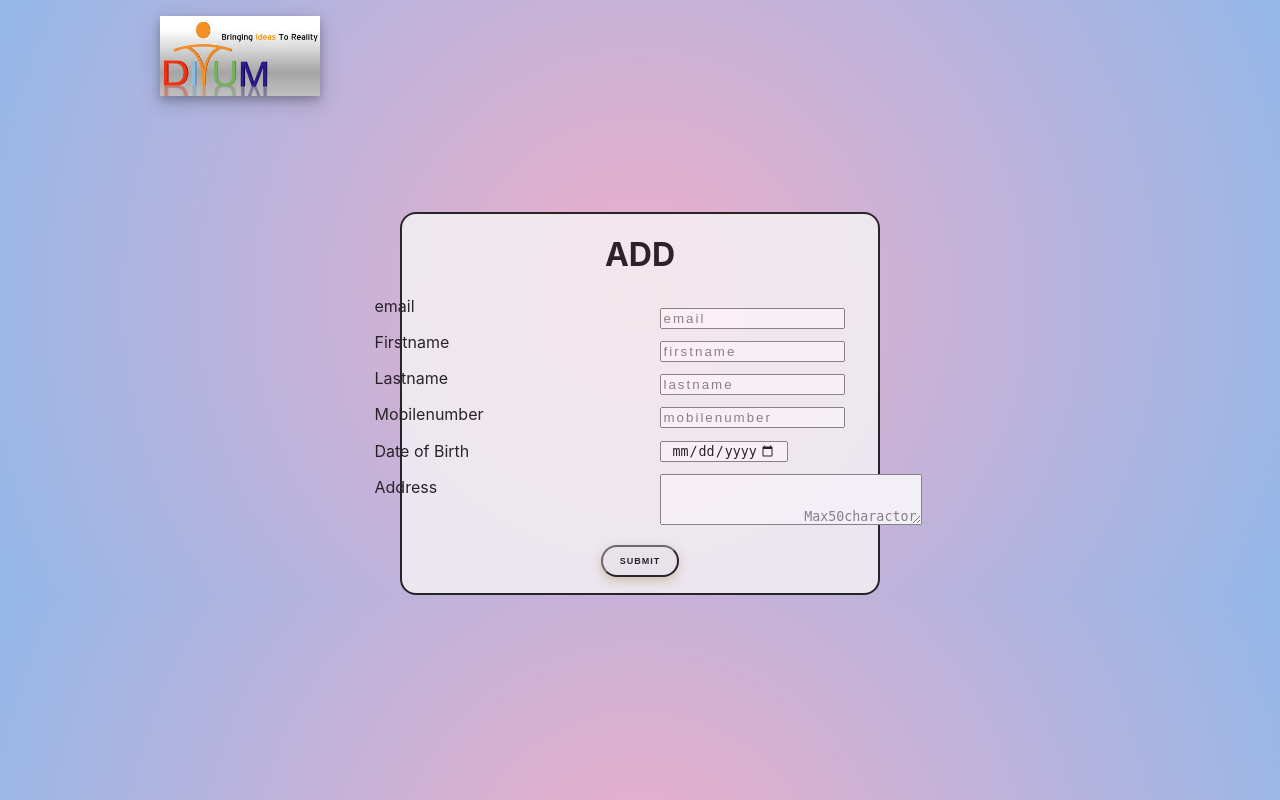
Test: add emailchecking test1
This screenshot has width=1280, height=800.
In the field with placeholder "email": coordinates (752, 318) [660,308,844,329], type "ragul86100@"
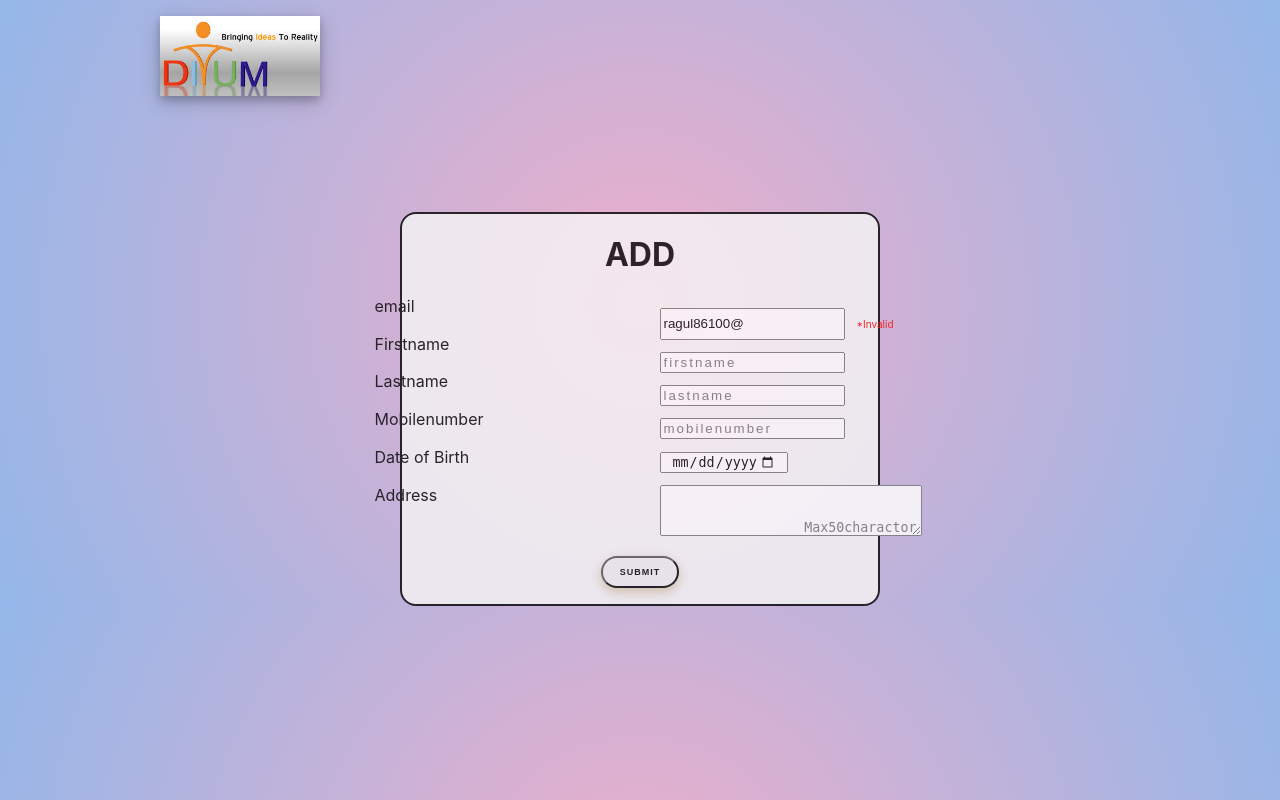
Expected: the text "*Invalid" is shown, [856,318,894,330]
